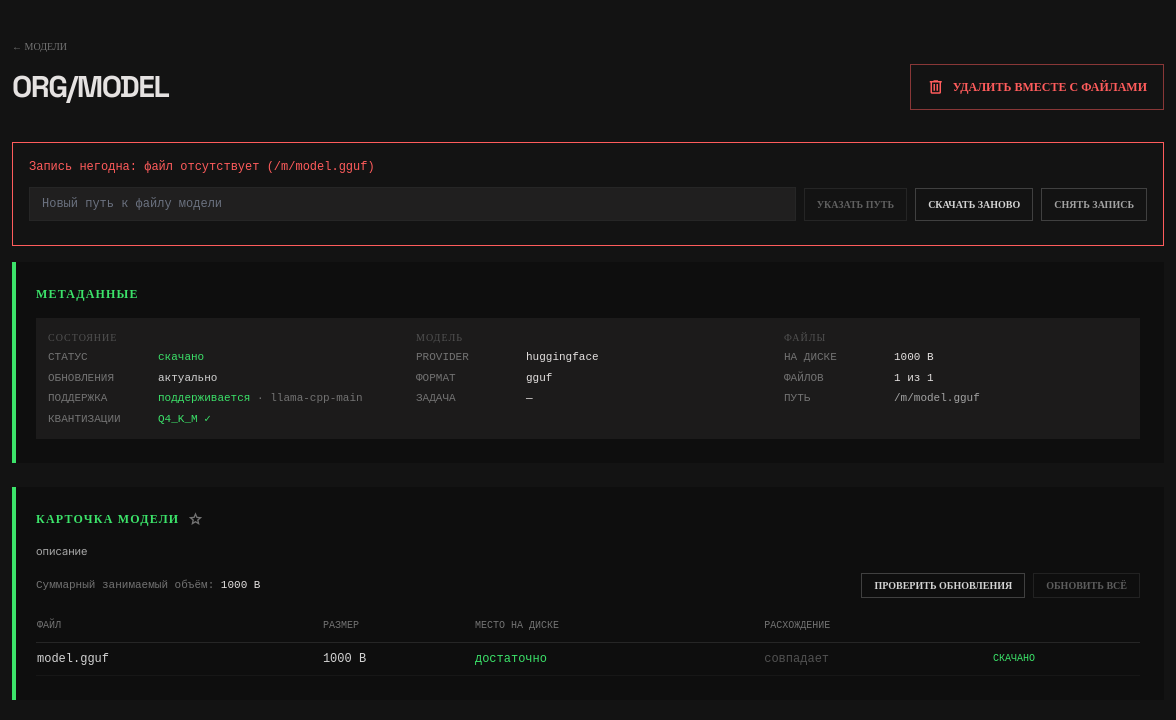
Test: ModelDetailPage — ручное исправление негодной записи › ошибка исправления показана и путь не меняется
Check: the element with test id "model-repair" is shown, box x1=12 y1=142 x2=1164 y2=246
Type "/data/broken.gguf" into the field with test id "repair-path-input". click: (412, 204)
box: x1=29 y1=187 x2=796 y2=221
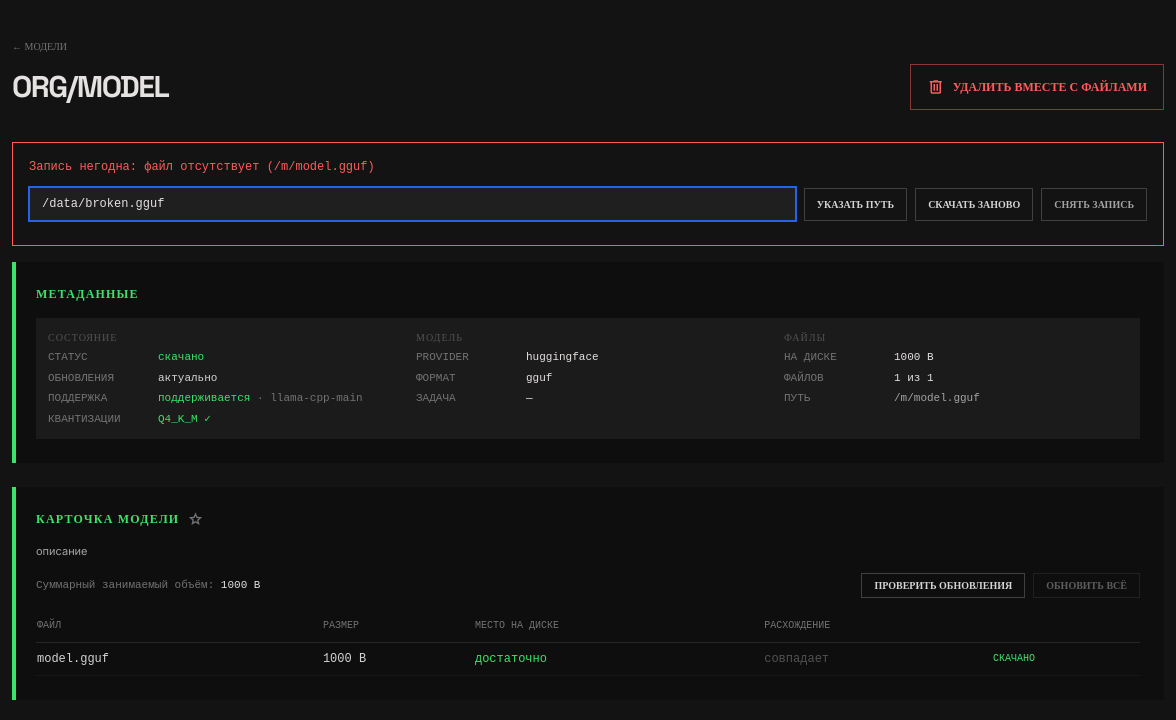
Click the button with test id "repair-apply-path". click: (855, 204)
box: x1=804 y1=188 x2=907 y2=220
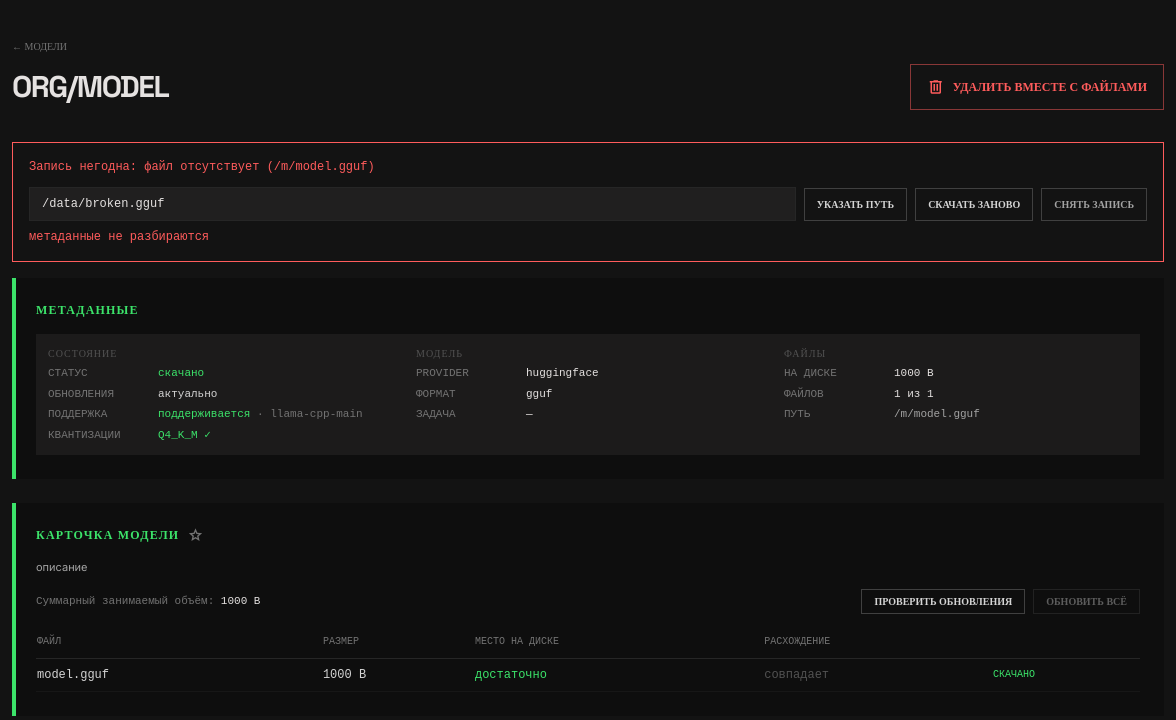
Check: the element with test id "model-repair" is shown, box x1=12 y1=142 x2=1164 y2=262
Check: the text with test id "repair-error" reads "метаданные не разбираются", box x1=29 y1=230 x2=209 y2=244
